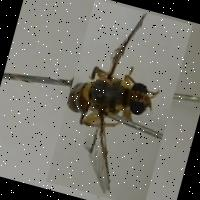Oriental-fruit-fly: (46, 0, 192, 200)
